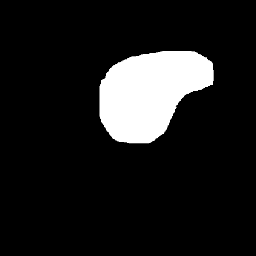mass: (94, 55, 212, 134)
